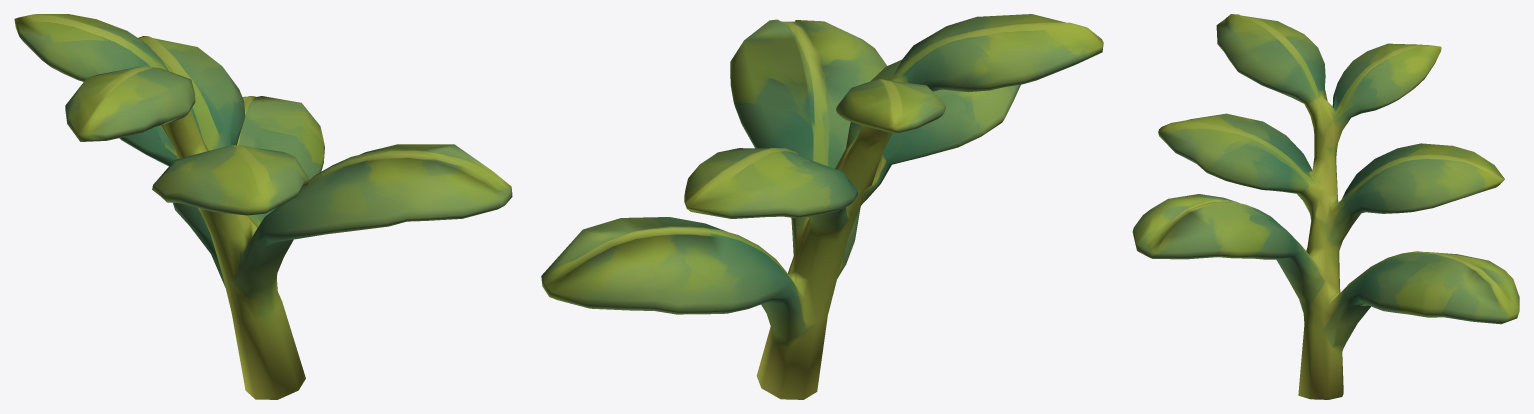
3 renders of one model, left to right at view 1: azimuth 30°, elevation 25°; view 2: azimuth 150°, elevation 25°; view 3: azimuth 270°, elevation 25°, orthographic. The views are drawn at different scales.
Parts seen in each view (by area): view 1: tripo_node_703b99f5-f6e5-40c6-9579-d08a9879381f; view 2: tripo_node_703b99f5-f6e5-40c6-9579-d08a9879381f; view 3: tripo_node_703b99f5-f6e5-40c6-9579-d08a9879381f.
Part boxes in pixels (<box>): tripo_node_703b99f5-f6e5-40c6-9579-d08a9879381f: <box>14,14,512,399</box>; tripo_node_703b99f5-f6e5-40c6-9579-d08a9879381f: <box>541,14,1103,399</box>; tripo_node_703b99f5-f6e5-40c6-9579-d08a9879381f: <box>1132,14,1519,399</box>.
Size of the model in its own units: 0.8965 by 0.8496 by 0.998.
Materials: 1 (1 with a texture image).
